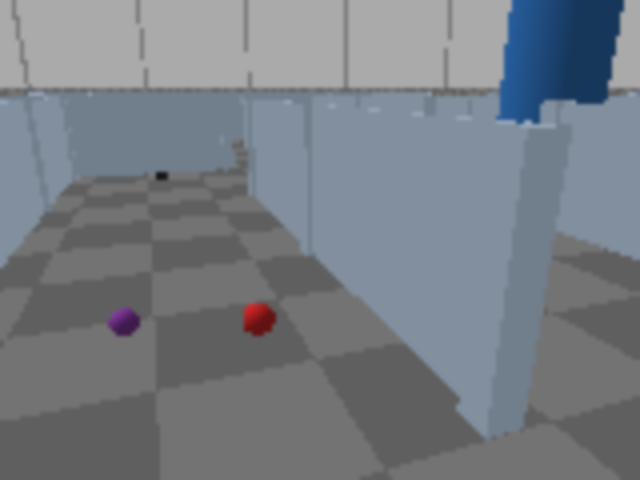puck: (235, 294, 282, 346), (105, 302, 145, 346)
